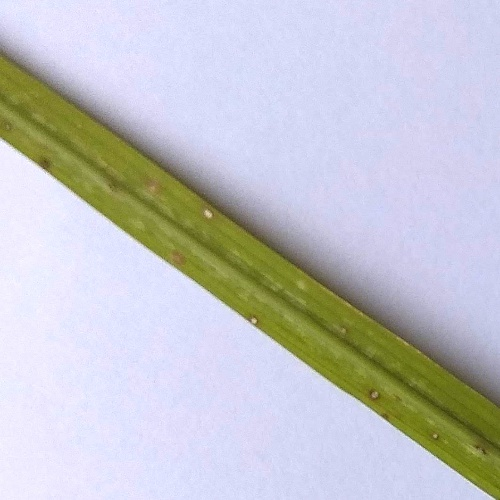Busuk Leher: (200, 201, 224, 228), (35, 150, 55, 179), (163, 251, 190, 270), (365, 386, 384, 406), (249, 306, 263, 330), (428, 426, 445, 445)
